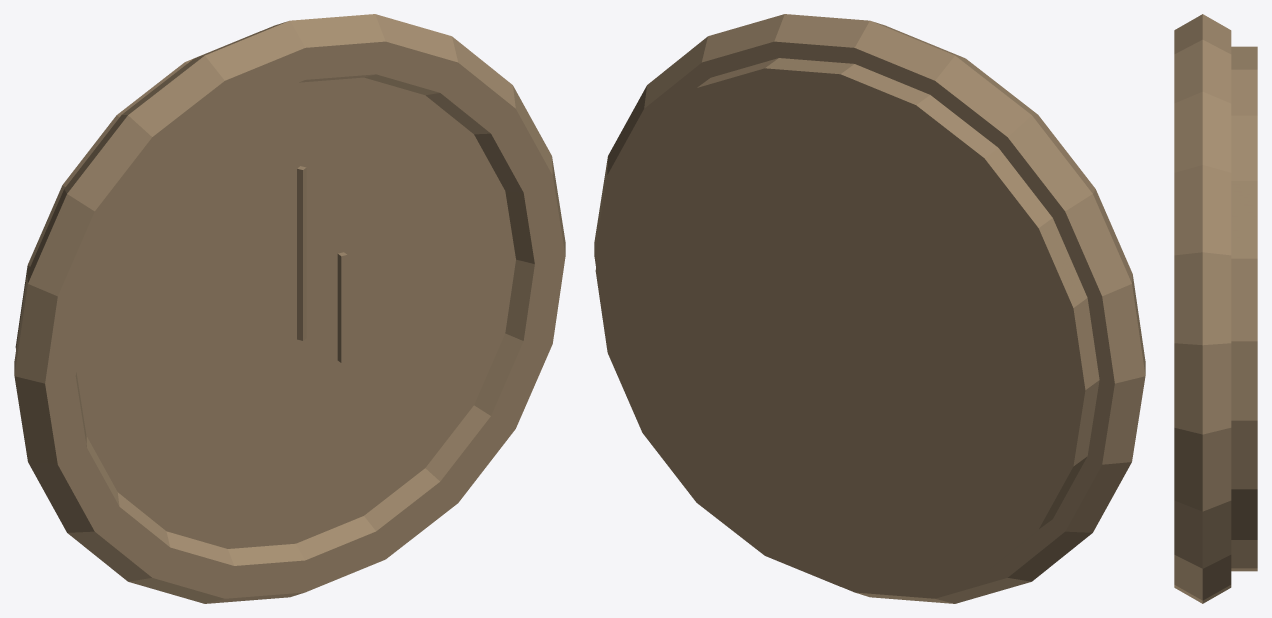
Rendered from clock.glb.
3 renders of one model, left to right at view 1: azimuth 30°, elevation 25°; view 2: azimuth 150°, elevation 25°; view 3: azimuth 270°, elevation 25°, orthographic. The views are drawn at different scales.
Parts seen in each view (by area): view 1: clock; view 2: clock; view 3: clock.
Part boxes in pixels (<box>): clock: <box>14,14,565,603</box>; clock: <box>594,14,1145,603</box>; clock: <box>1174,14,1257,603</box>.
Size of the model in its own units: 0.27 by 0.27 by 0.038.
